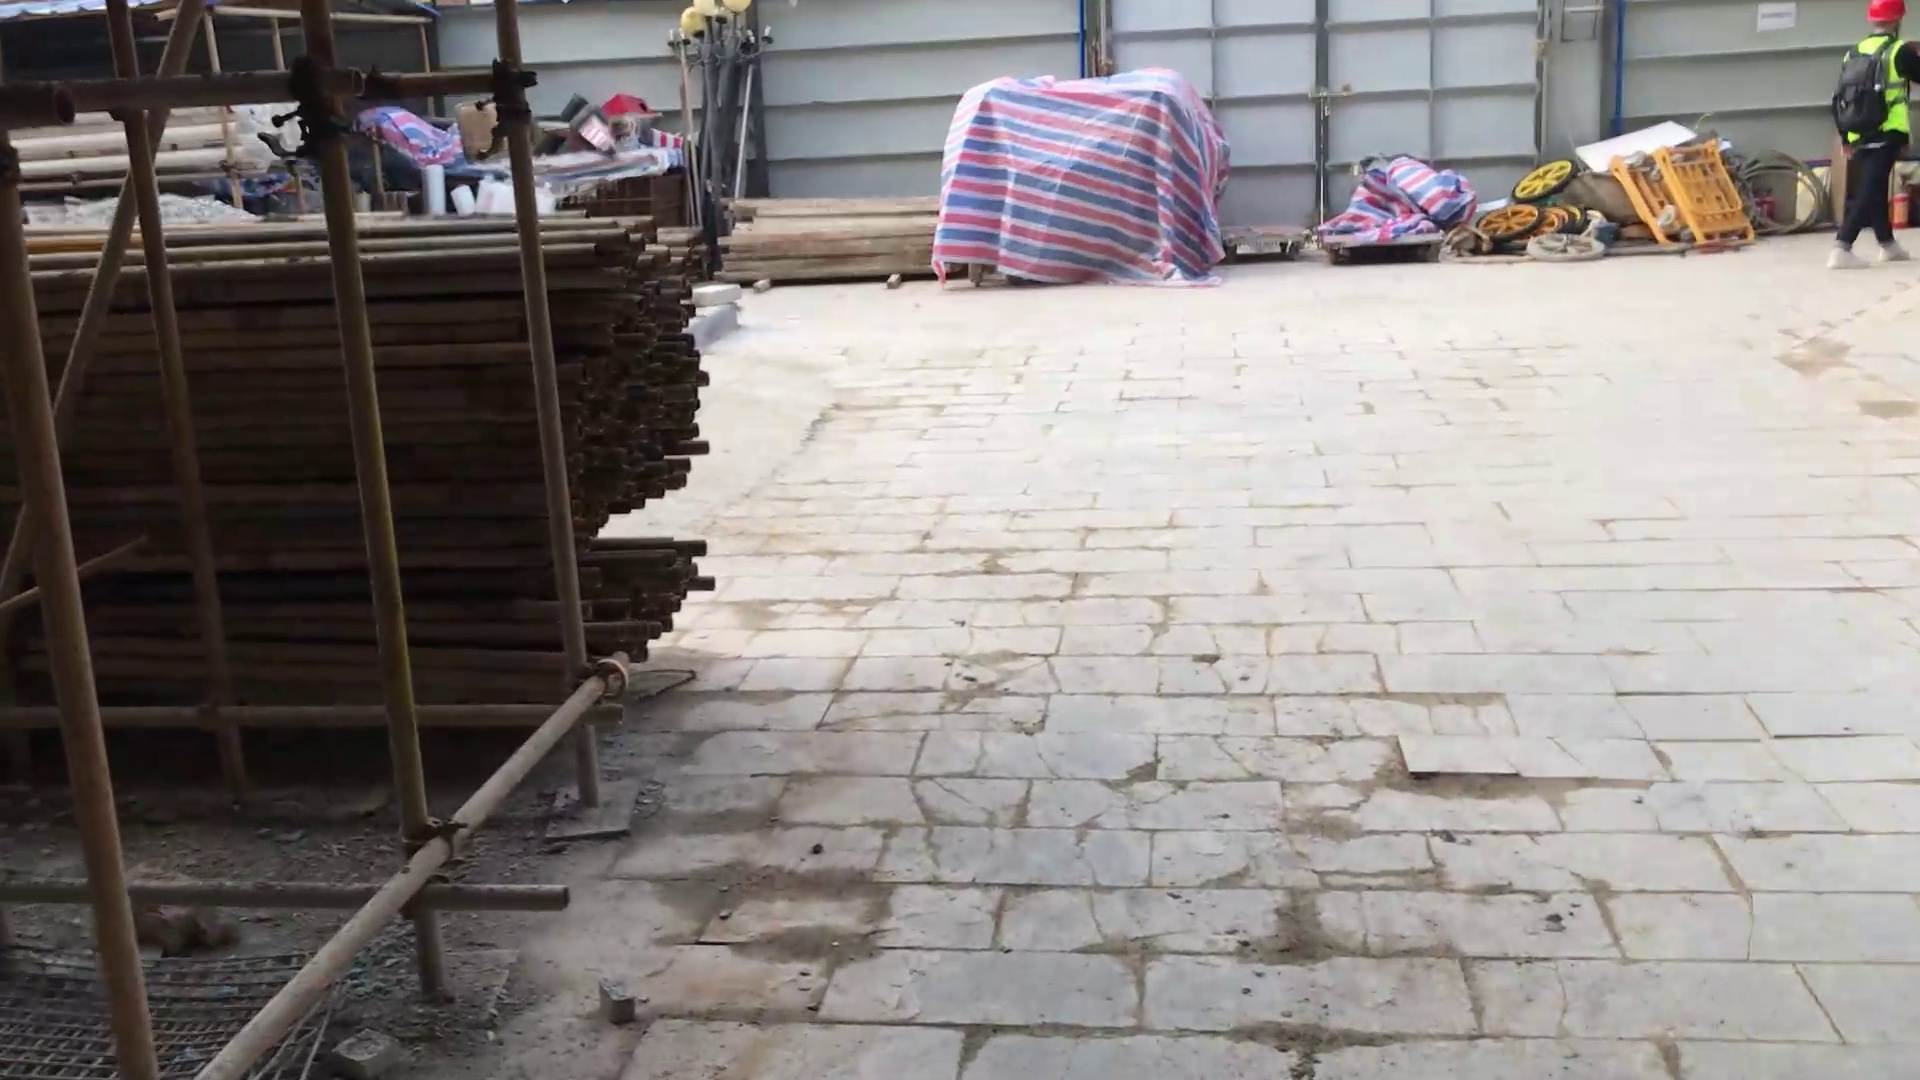helmet: (1858, 1, 1910, 35)
person: (1819, 2, 1920, 287)
vest: (1837, 39, 1917, 143)
